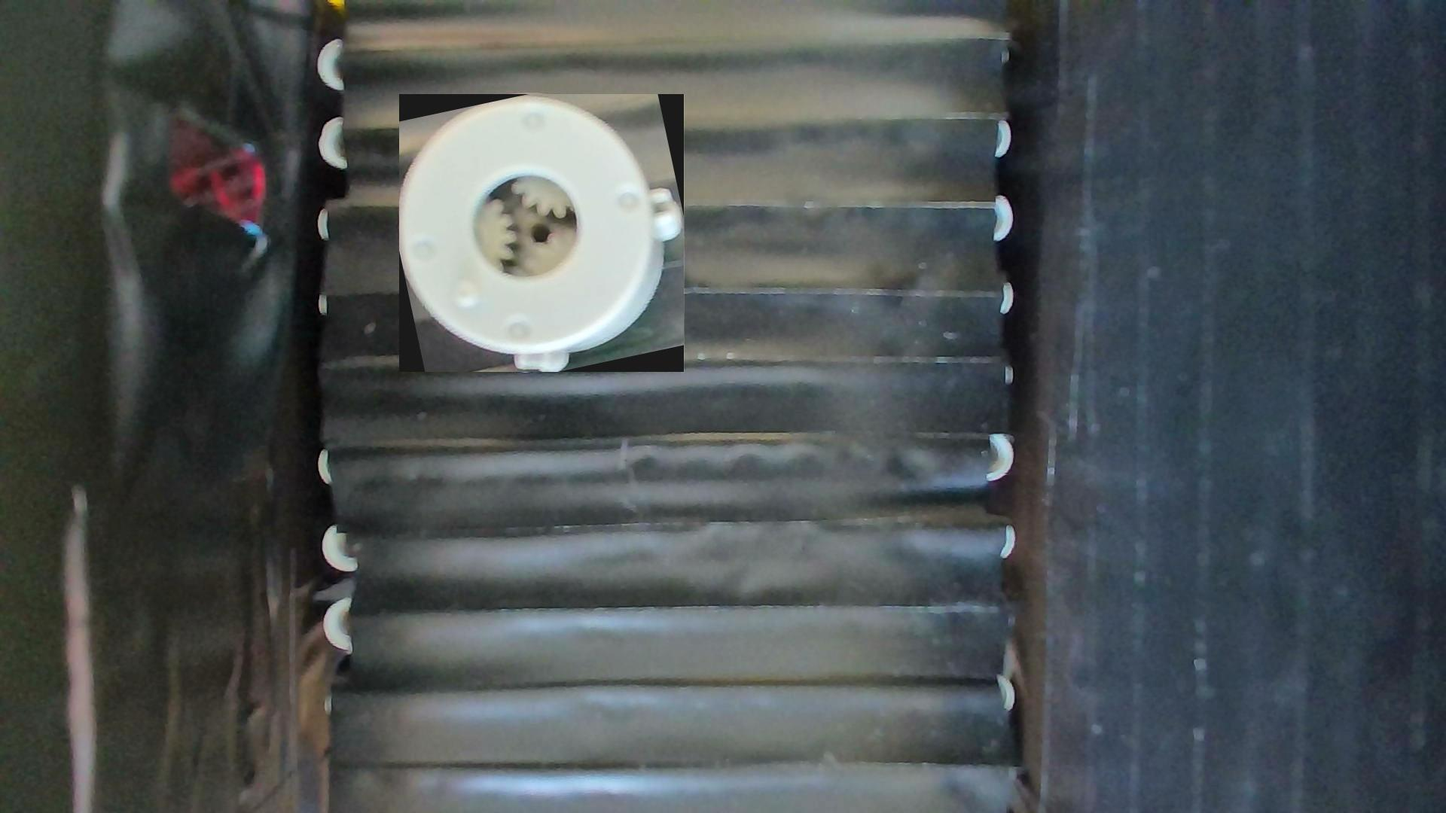cartridge: (400, 94, 685, 372)
